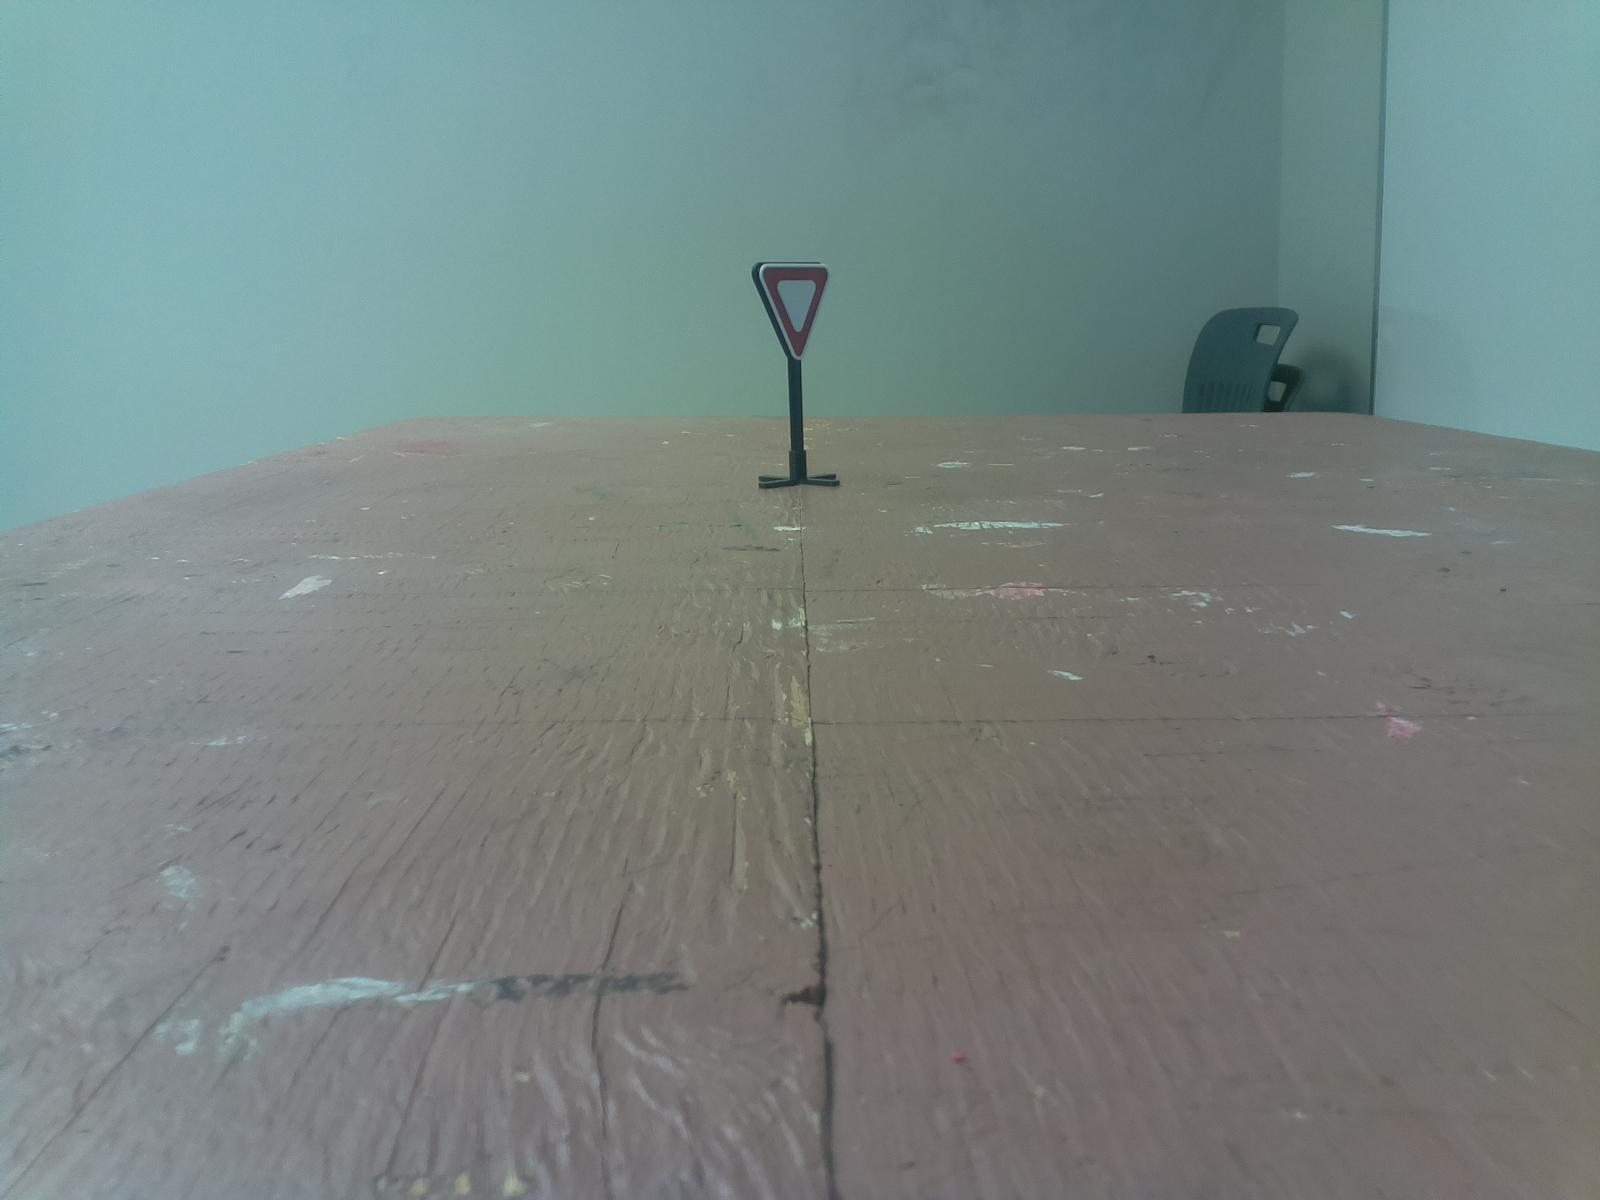sign_yield: (734, 251, 852, 368)
